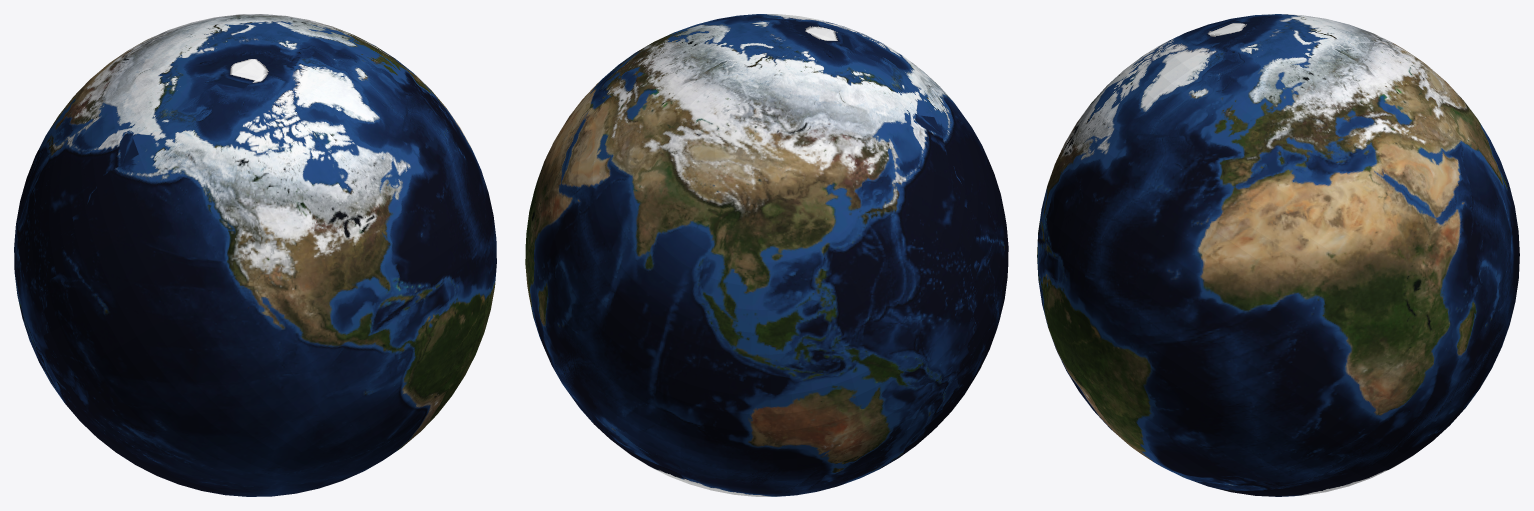
The model's file is earth.obj.
3 views of the same model, side by side, from view 1: azimuth 30°, elevation 25°; view 2: azimuth 150°, elevation 25°; view 3: azimuth 270°, elevation 25° (orthographic).
Visible parts, largest first — view 1: Sphere_Sphere.001; view 2: Sphere_Sphere.001; view 3: Sphere_Sphere.001.
Part boxes in pixels (x1=…): Sphere_Sphere.001: x1=14, y1=14, x2=496, y2=496; Sphere_Sphere.001: x1=525, y1=14, x2=1008, y2=496; Sphere_Sphere.001: x1=1037, y1=14, x2=1519, y2=496.
Bounding box in the file's own units: 12.73 × 12.74 × 12.74.
